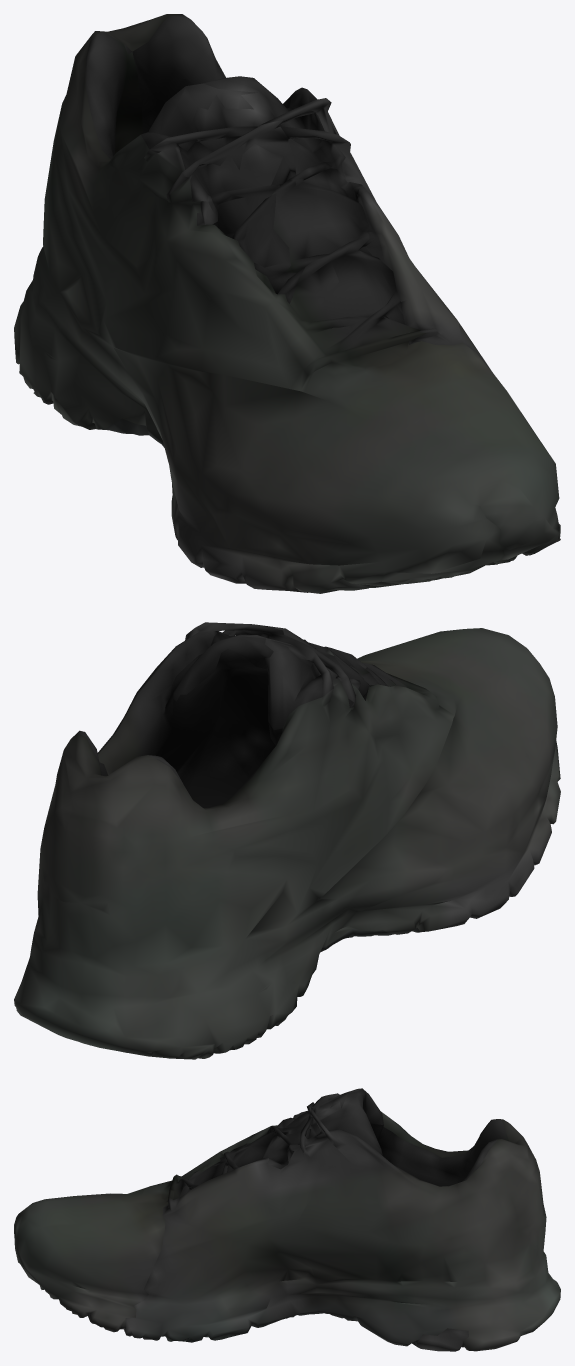
Rendered from Reebok_DMX_MAX_PLUS_RAINWALKER-medium.glb.
The picture shows the model from 3 angles, top to bottom: view 1: azimuth 30°, elevation 25°; view 2: azimuth 150°, elevation 25°; view 3: azimuth 270°, elevation 25°; orthographic projection. The views are drawn at different scales.
Parts seen in each view (by area): view 1: Reebok_DMX_MAX_PLUS_RAINWALKER; view 2: Reebok_DMX_MAX_PLUS_RAINWALKER; view 3: Reebok_DMX_MAX_PLUS_RAINWALKER.
Boxes of the visible parts, x1,y1,x2,y2 form: Reebok_DMX_MAX_PLUS_RAINWALKER: (14,14,560,593); Reebok_DMX_MAX_PLUS_RAINWALKER: (14,622,560,1059); Reebok_DMX_MAX_PLUS_RAINWALKER: (14,1088,560,1351).
Bounding box in the file's own units: 0.114 × 0.1361 × 0.3004.
Materials: 1 (1 with a texture image).
